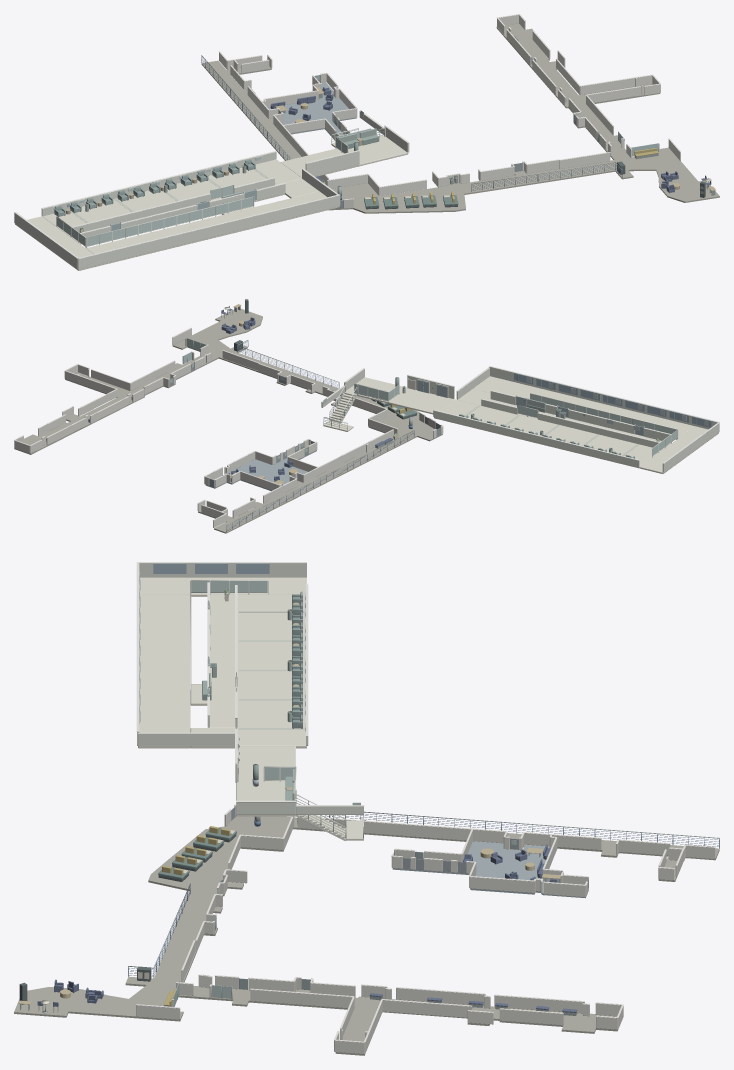
File: building.glb
3 views of the same model, one above another, from view 1: azimuth 30°, elevation 25°; view 2: azimuth 150°, elevation 25°; view 3: azimuth 270°, elevation 25° (orthographic). The views are drawn at different scales.
Visible parts, largest first — view 1: Floor 2 · continuous-tile-floor, Long window lounge, Mural corridor south, Mural corridor, Upper lift landing, Floor 2 · lounge-carpet, Window lounge north, Upper passage north, Mural corridor · west return, Lift bank wall.001, Mural corridor west, Floor 2 · wall-53-0 (+6 smaller); view 2: Floor 2 · continuous-tile-floor, Long window lounge, Mural corridor, Upper lift landing, Window lounge north, Mural corridor south, Floor 2 · lounge-carpet, Mural corridor · west return, Upper passage north, Floor 2 · wall-21-0, Mural corridor west, Upper restroom fronts.001 (+2 smaller); view 3: Floor 2 · continuous-tile-floor, Long window lounge, Mural corridor, Upper restroom passage, Upper lift landing, Floor 2 · lounge-carpet, Mural corridor · west return, Floor 2 · wall-21-0, Mural corridor west, Mural corridor east, Floor 2 · wall-36-0, Floor 2 · wall-37-0 (+6 smaller).
Part boxes in pixels (x1,y1,x2,y2): Floor 2 · continuous-tile-floor: [201, 23, 719, 213]; Long window lounge: [42, 159, 301, 235]; Mural corridor south: [78, 195, 340, 269]; Mural corridor: [86, 191, 339, 264]; Upper lift landing: [280, 136, 408, 177]; Floor 2 · lounge-carpet: [268, 82, 356, 140]; Window lounge north: [41, 152, 276, 216]; Upper passage north: [73, 194, 210, 232]; Mural corridor · west return: [15, 216, 105, 270]; Lift bank wall.001: [305, 151, 359, 175]; Mural corridor west: [14, 213, 78, 269]; Floor 2 · wall-53-0: [580, 75, 652, 94]; Floor 2 · continuous-tile-floor: [14, 307, 442, 533]; Long window lounge: [434, 400, 662, 468]; Mural corridor: [473, 376, 694, 439]; Upper lift landing: [345, 377, 456, 414]; Window lounge north: [433, 410, 639, 466]; Mural corridor south: [489, 367, 717, 429]; Floor 2 · lounge-carpet: [205, 450, 316, 490]; Mural corridor · west return: [639, 426, 718, 473]; Upper passage north: [538, 413, 658, 447]; Floor 2 · wall-21-0: [303, 430, 393, 482]; Mural corridor west: [662, 423, 719, 472]; Upper restroom fronts.001: [568, 410, 634, 434]; Floor 2 · continuous-tile-floor: [14, 816, 719, 1055]; Long window lounge: [236, 594, 306, 748]; Mural corridor: [138, 594, 190, 748]; Upper restroom passage: [209, 594, 235, 727]; Upper lift landing: [236, 746, 295, 816]; Floor 2 · lounge-carpet: [392, 841, 588, 898]; Mural corridor · west return: [139, 577, 306, 596]; Floor 2 · wall-21-0: [298, 817, 505, 843]; Mural corridor west: [139, 563, 306, 577]; Mural corridor east: [138, 734, 234, 746]; Floor 2 · wall-36-0: [250, 989, 352, 1008]; Floor 2 · wall-37-0: [382, 1000, 472, 1017].
Size of the model in its own units: 73.12 by 5.74 by 50.98.
